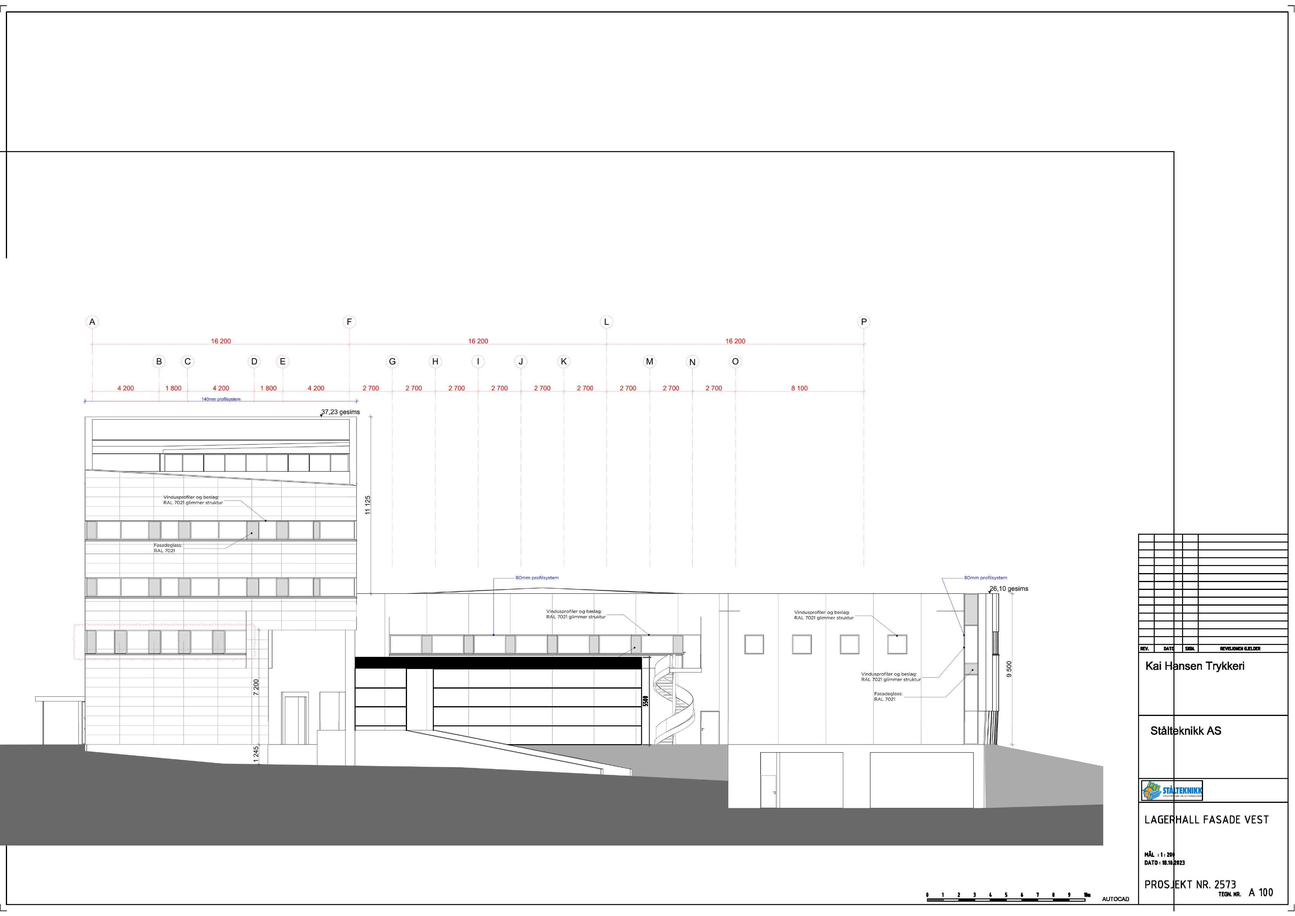fasade: (35, 415, 1002, 808)
